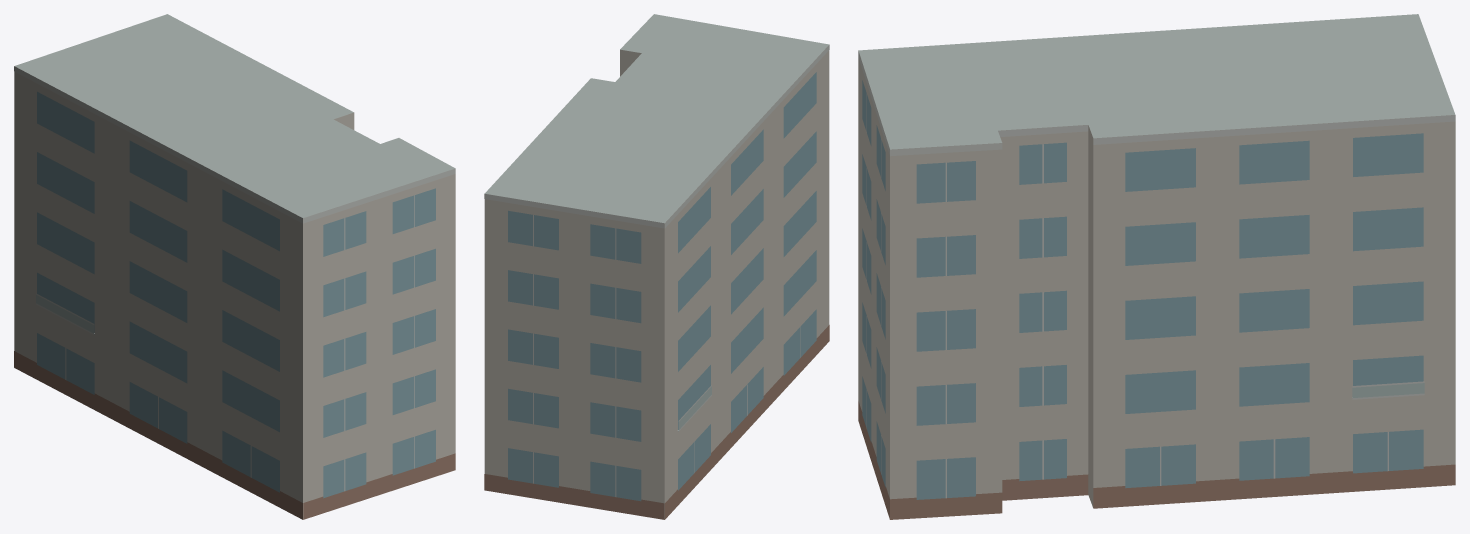
Rendered from survey-upis-32746222.glb.
3 views of the same model, side by side, from view 1: azimuth 30°, elevation 25°; view 2: azimuth 150°, elevation 25°; view 3: azimuth 270°, elevation 25° (orthographic). The views are drawn at different scales.
Visible parts, largest first — view 1: survey-upis-32746222.tmp; view 2: survey-upis-32746222.tmp; view 3: survey-upis-32746222.tmp.
Part boxes in pixels (x1,y1,x2,y2): survey-upis-32746222.tmp: (14,14,455,519); survey-upis-32746222.tmp: (484,14,829,519); survey-upis-32746222.tmp: (858,14,1455,519).
Size of the model in its own units: 10.69 by 13.6 by 19.88.
